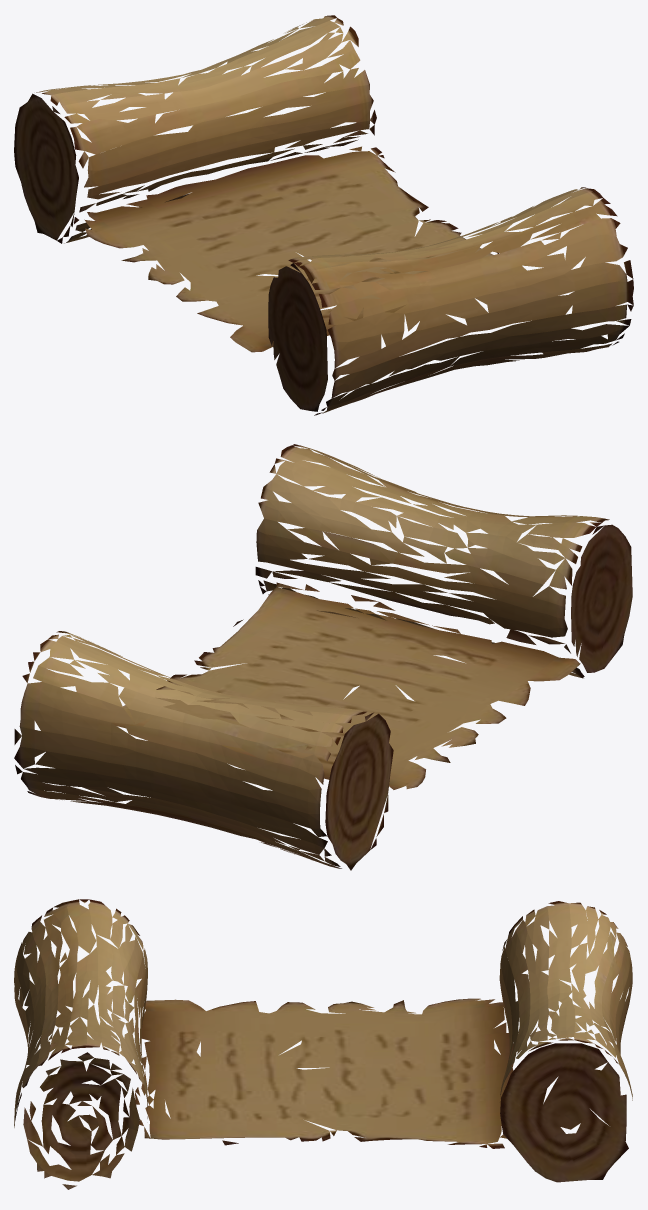
The model's file is open_scroll1.glb.
3 views of the same model, one above another, from view 1: azimuth 30°, elevation 25°; view 2: azimuth 150°, elevation 25°; view 3: azimuth 270°, elevation 25° (orthographic). The views are drawn at different scales.
Parts seen in each view (by area): view 1: world; view 2: world; view 3: world.
Boxes of the visible parts, <box> form: world: <box>14,15,633,415</box>; world: <box>14,444,632,870</box>; world: <box>14,899,632,1189</box>.
Bounding box in the file's own units: 0.6018 × 0.2705 × 0.9994.
1 material, 1 textured.
